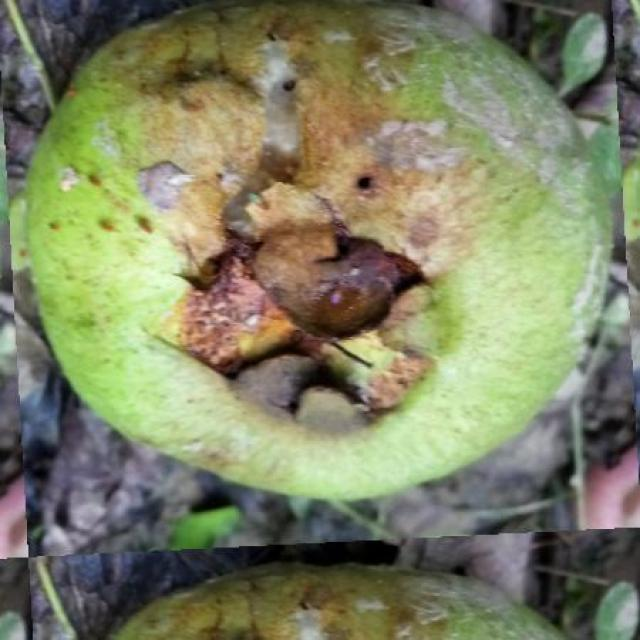Styler and Root: (26, 0, 609, 499)
